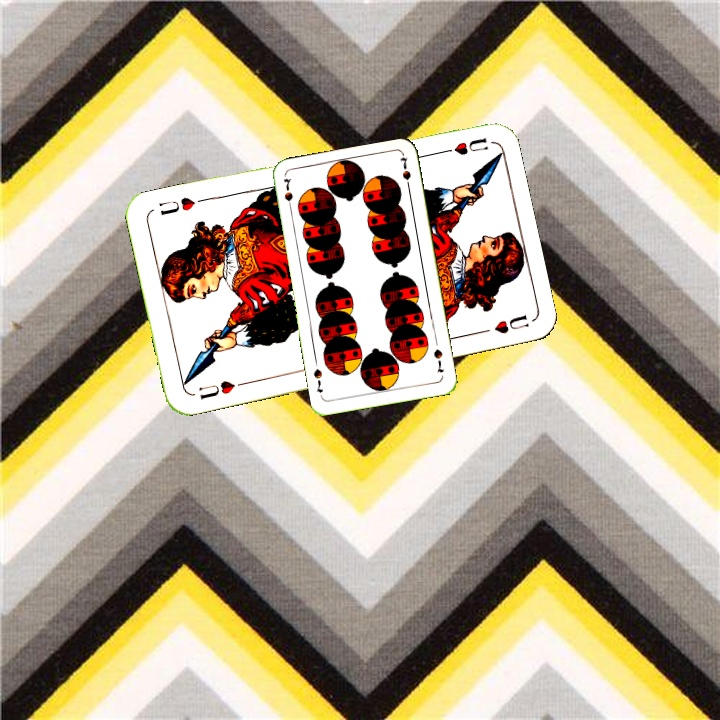HU: (194, 376, 248, 402), (433, 134, 491, 158)
S7: (280, 174, 295, 214), (429, 345, 447, 376)
